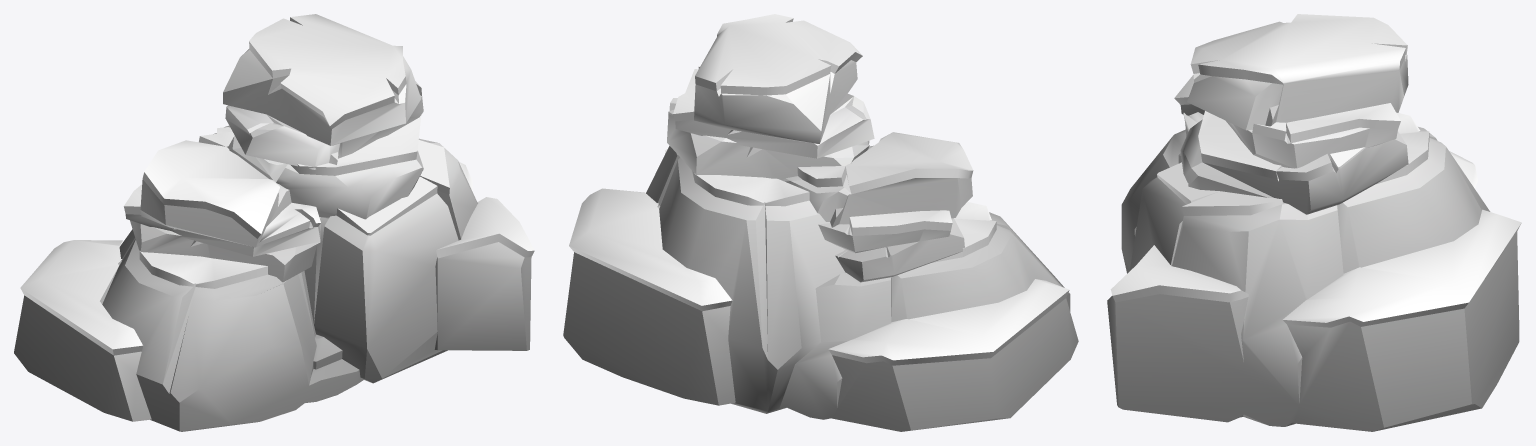
The model's file is Rock_3.fbx.
3 renders of one model, left to right at view 1: azimuth 30°, elevation 25°; view 2: azimuth 150°, elevation 25°; view 3: azimuth 270°, elevation 25°, orthographic. The views are drawn at different scales.
Parts seen in each view (by area): view 1: Rock_3, Rock_3_Snow; view 2: Rock_3, Rock_3_Snow; view 3: Rock_3, Rock_3_Snow.
Part boxes in pixels (x1,y1,x2,y2): Rock_3: (14, 49, 531, 431); Rock_3_Snow: (20, 14, 534, 355); Rock_3: (563, 60, 1078, 431); Rock_3_Snow: (569, 14, 1069, 365); Rock_3: (1107, 54, 1519, 431); Rock_3_Snow: (1110, 14, 1521, 327).
Bounding box in the file's own units: 16.72 × 10.56 × 12.45.
